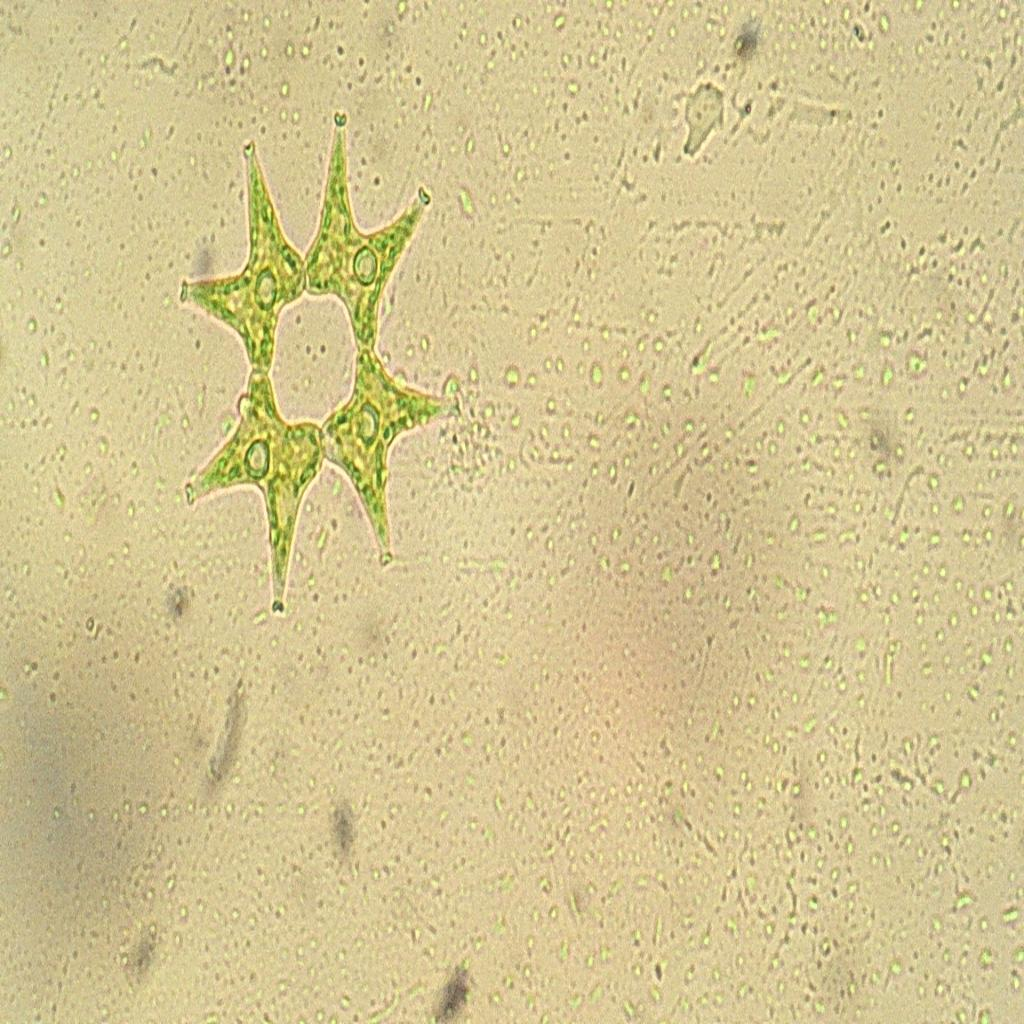Pediastrum_CO: (175, 102, 454, 628)
